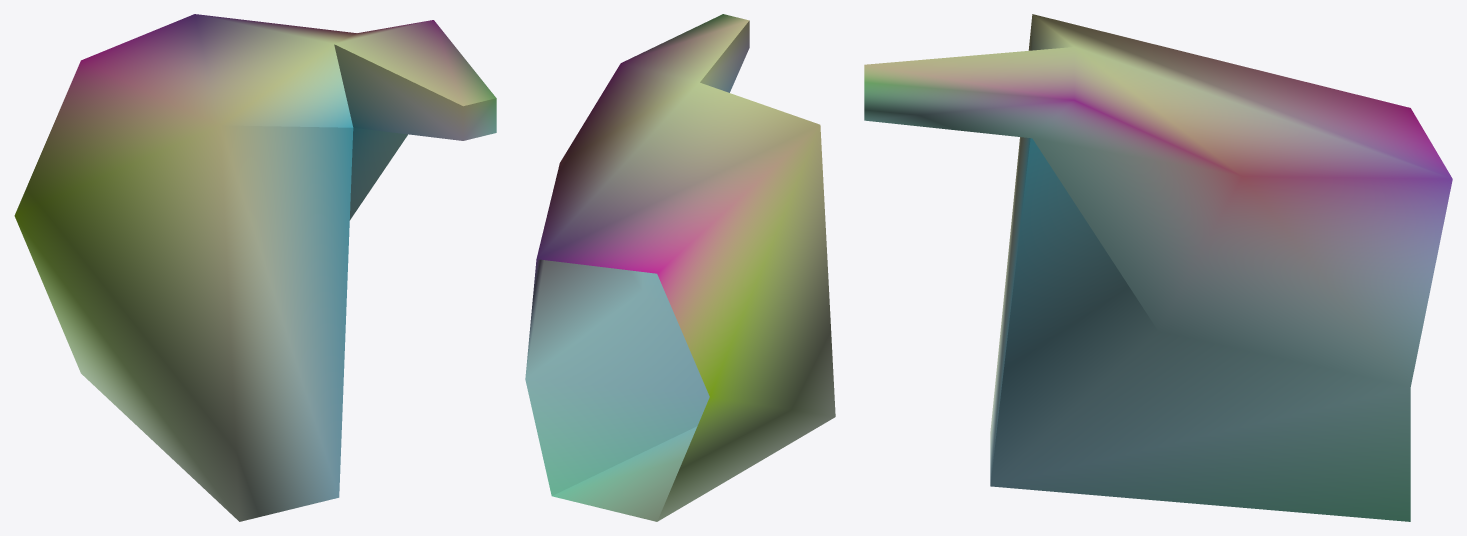
3 views of the same model, side by side, from view 1: azimuth 30°, elevation 25°; view 2: azimuth 150°, elevation 25°; view 3: azimuth 270°, elevation 25° (orthographic). The views are drawn at different scales.
Visible parts, largest first — view 1: part; view 2: part; view 3: part.
Part boxes in pixels (left/top/right/bottom): part: left=14, top=14, right=496, bottom=521; part: left=525, top=14, right=835, bottom=521; part: left=864, top=14, right=1452, bottom=521.
Size of the model in its own units: 8 by 12 by 14.
